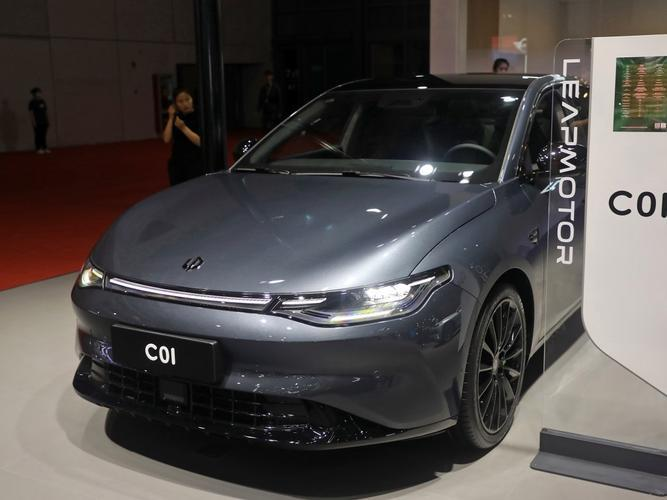LEAPMOTOR: (181, 254, 204, 272)
